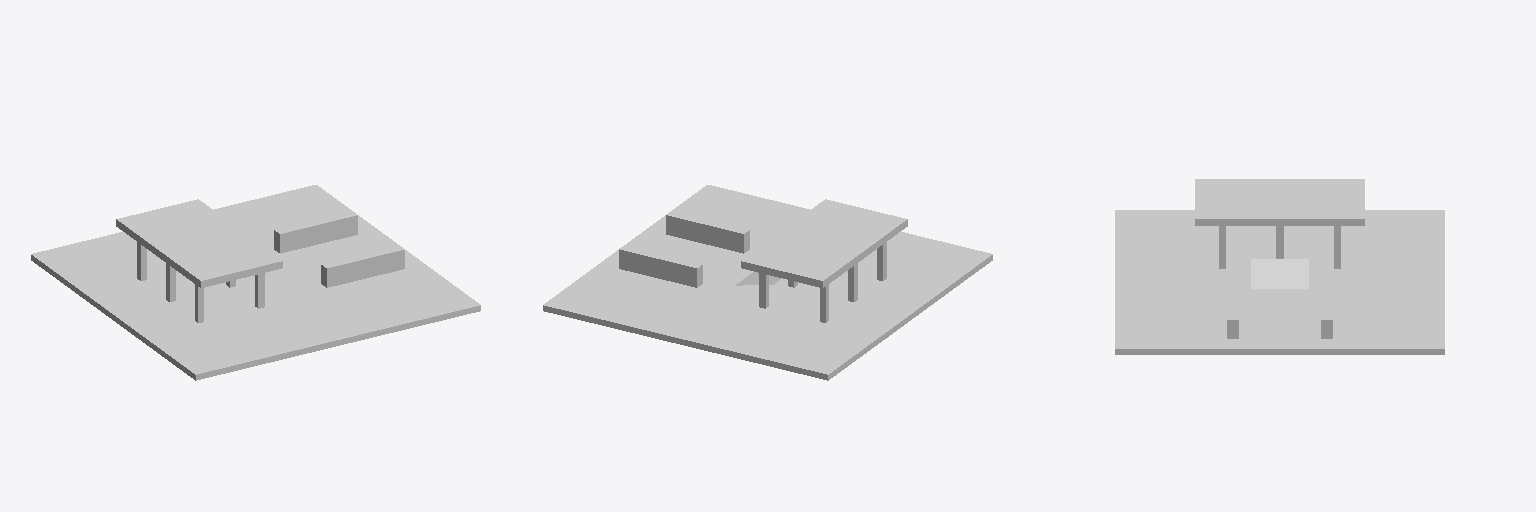
Rendered from test_geo_cd_ramp.obj.
3 views of the same model, side by side, from view 1: azimuth 30°, elevation 25°; view 2: azimuth 150°, elevation 25°; view 3: azimuth 270°, elevation 25° (orthographic).
Parts seen in each view (by area): view 1: mesh01; view 2: mesh01; view 3: mesh01, mesh02.
Boxes of the visible parts, x1=… form: mesh01: x1=31, y1=185, x2=480, y2=380; mesh01: x1=543, y1=185, x2=992, y2=380; mesh01: x1=1115, y1=179, x2=1444, y2=354; mesh02: x1=1251, y1=259, x2=1308, y2=288.
Size of the model in its own units: 429 by 84.81 by 429.